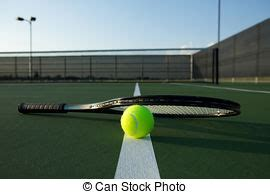tennis_ball: (120, 104, 154, 139)
